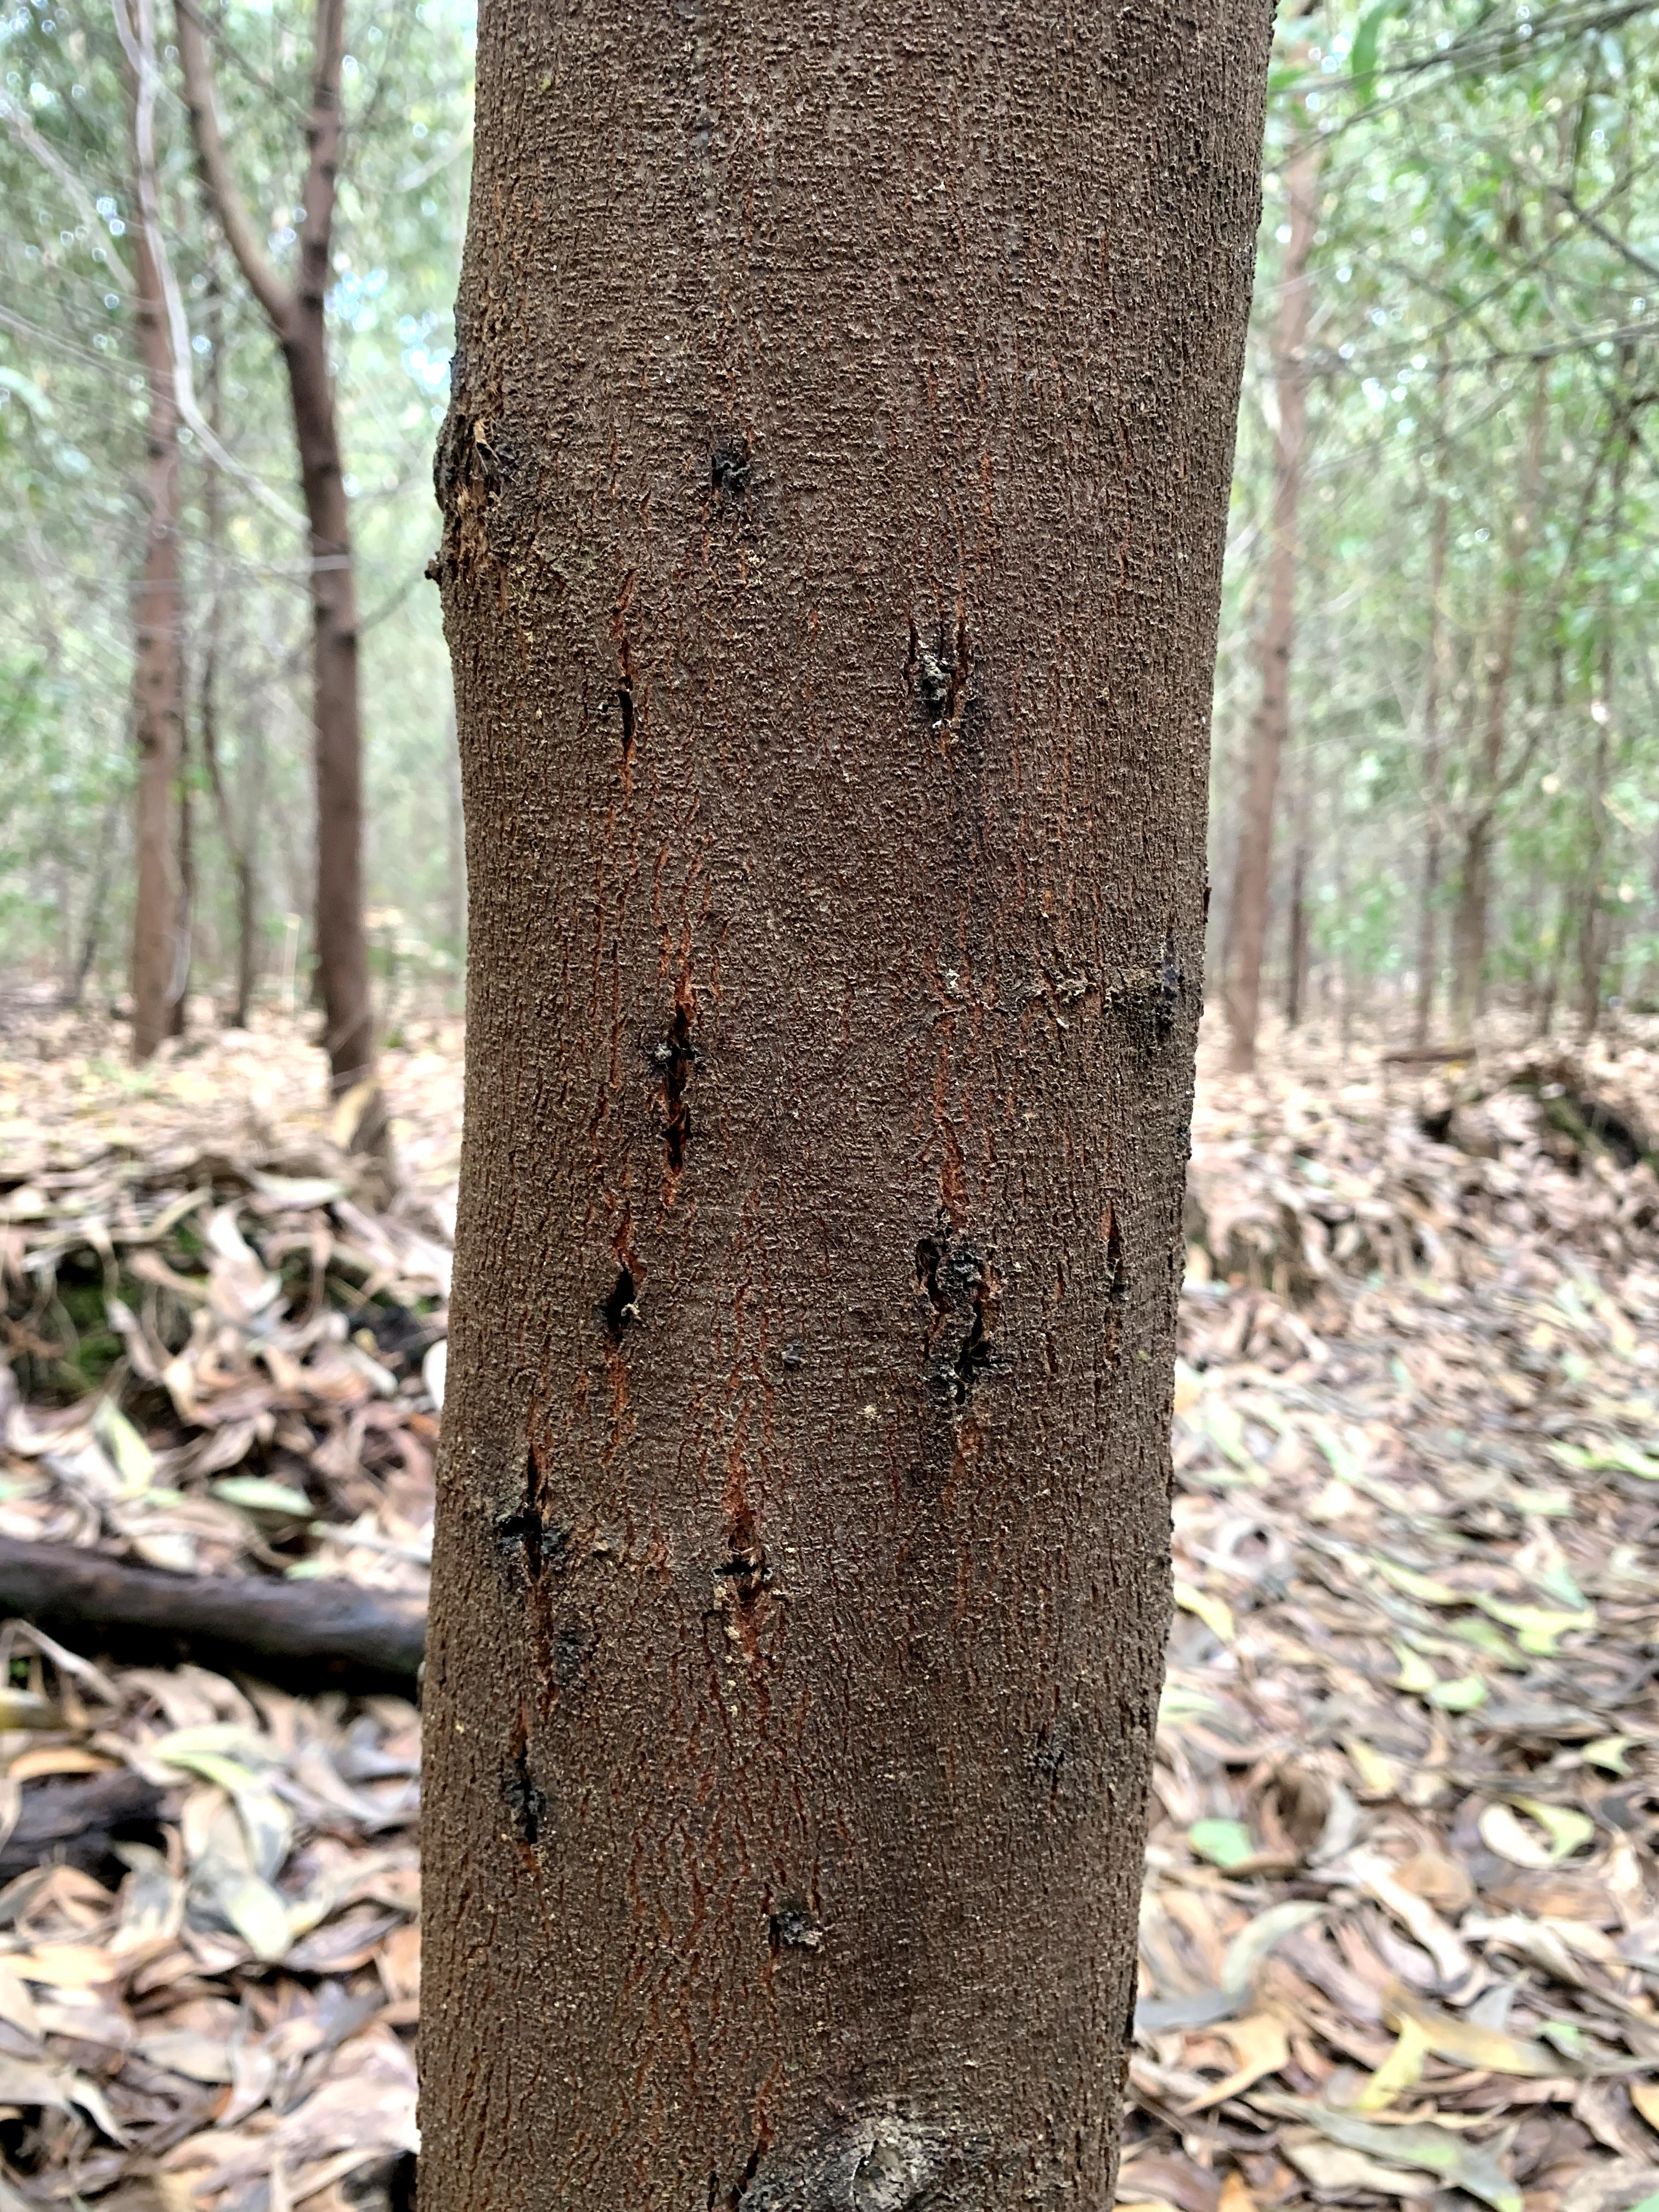Stem Borer: (897, 1226, 1002, 1432), (641, 960, 727, 1195), (483, 1433, 586, 1627), (894, 590, 999, 766), (695, 1508, 798, 1653), (678, 2107, 803, 2212), (479, 1717, 563, 1862), (592, 629, 653, 820), (587, 1230, 655, 1383), (758, 1876, 838, 1982), (1098, 1200, 1159, 1338), (694, 404, 753, 512)
